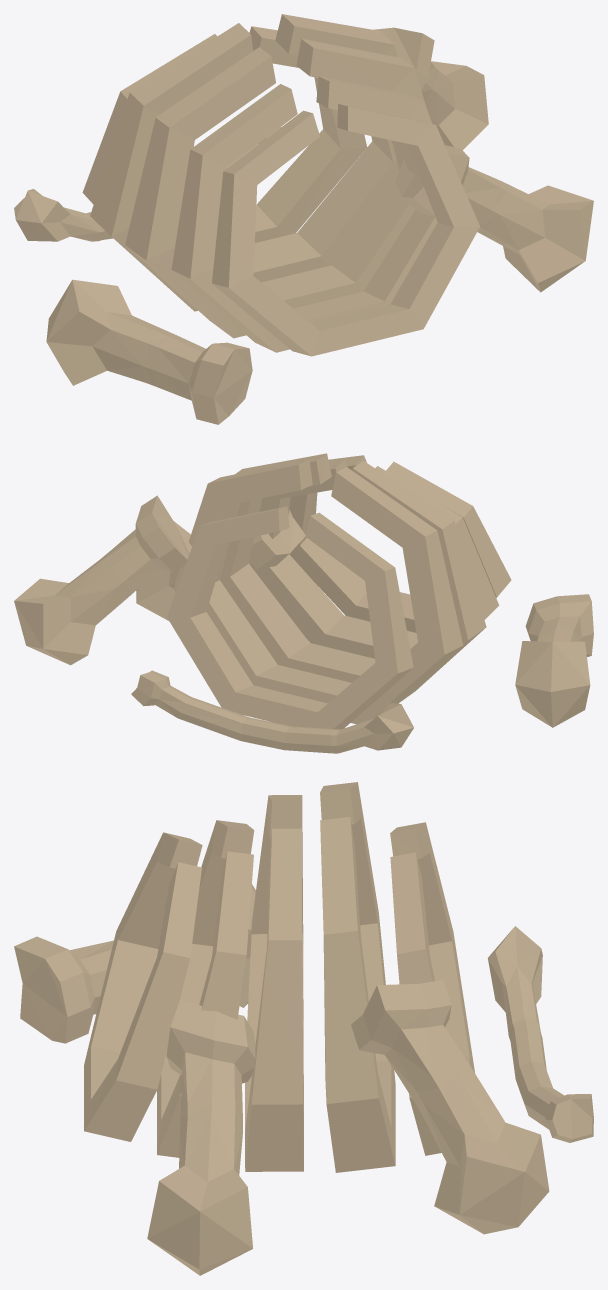
The model's file is Bones.glb.
3 renders of one model, top to bottom at view 1: azimuth 30°, elevation 25°; view 2: azimuth 150°, elevation 25°; view 3: azimuth 270°, elevation 25°, orthographic. The views are drawn at different scales.
Visible parts, largest first — view 1: BonePile; view 2: BonePile; view 3: BonePile.
Part boxes in pixels (x1,y1,x2,y2): BonePile: (14, 14, 593, 424); BonePile: (14, 453, 593, 753); BonePile: (14, 782, 593, 1275).
Bounding box in the file's own units: 2.15 × 1.07 × 1.64.
